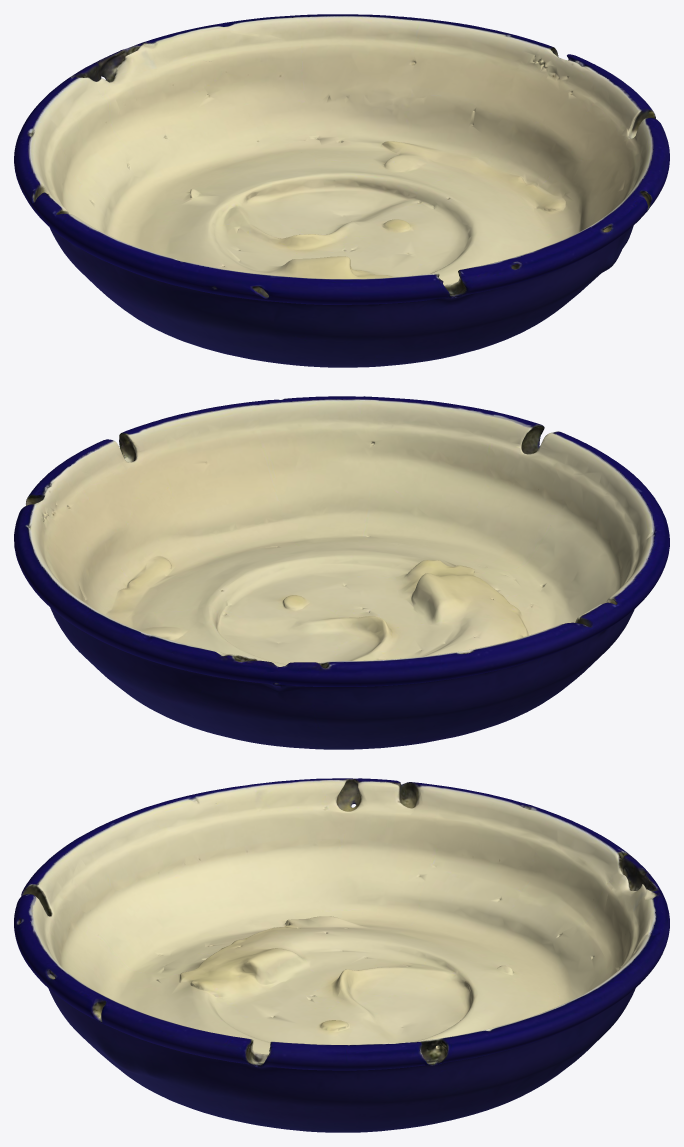
File: saucer.glb
3 views of the same model, one above another, from view 1: azimuth 30°, elevation 25°; view 2: azimuth 150°, elevation 25°; view 3: azimuth 270°, elevation 25° (orthographic).
Parts seen in each view (by area): view 1: tripo_node_63e0c970-1a5f-4ff1-af23-d4fcbbd35126; view 2: tripo_node_63e0c970-1a5f-4ff1-af23-d4fcbbd35126; view 3: tripo_node_63e0c970-1a5f-4ff1-af23-d4fcbbd35126.
Boxes of the visible parts, x1,y1,x2,y2 form: tripo_node_63e0c970-1a5f-4ff1-af23-d4fcbbd35126: (14, 14, 669, 367); tripo_node_63e0c970-1a5f-4ff1-af23-d4fcbbd35126: (14, 396, 669, 749); tripo_node_63e0c970-1a5f-4ff1-af23-d4fcbbd35126: (14, 778, 669, 1132).
Size of the model in its own units: 0.9999 by 0.229 by 0.9976.
Materials: 1 (1 with a texture image).
